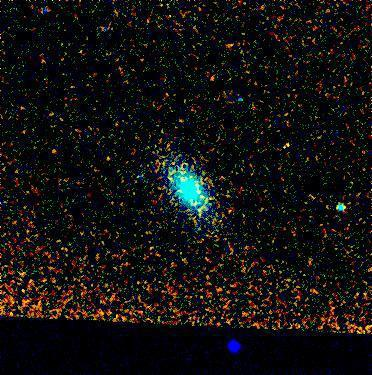star: (269, 130, 299, 160)
